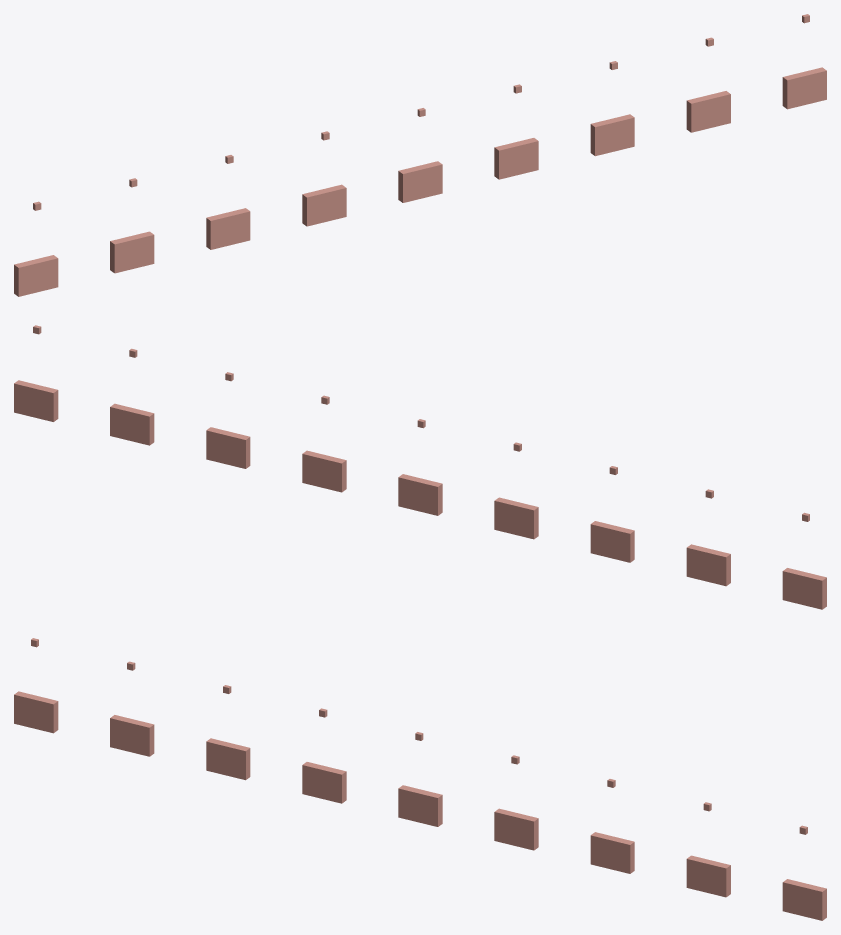
Rendered from SM_Int_Freighter_CrewQuarters_Vents.fbx.
3 renders of one model, top to bottom at view 1: azimuth 30°, elevation 25°; view 2: azimuth 150°, elevation 25°; view 3: azimuth 330°, elevation 25°, orthographic.
Parts seen in each view (by area): view 1: SM_Int_Freighter_CrewQuarters_Vents; view 2: SM_Int_Freighter_CrewQuarters_Vents; view 3: SM_Int_Freighter_CrewQuarters_Vents.
Boxes of the visible parts, x1,y1,x2,y2 form: SM_Int_Freighter_CrewQuarters_Vents: [14, 14, 826, 296]; SM_Int_Freighter_CrewQuarters_Vents: [14, 325, 826, 609]; SM_Int_Freighter_CrewQuarters_Vents: [14, 638, 826, 920].
Size of the model in its own units: 673 by 6.6 by 70.12.
